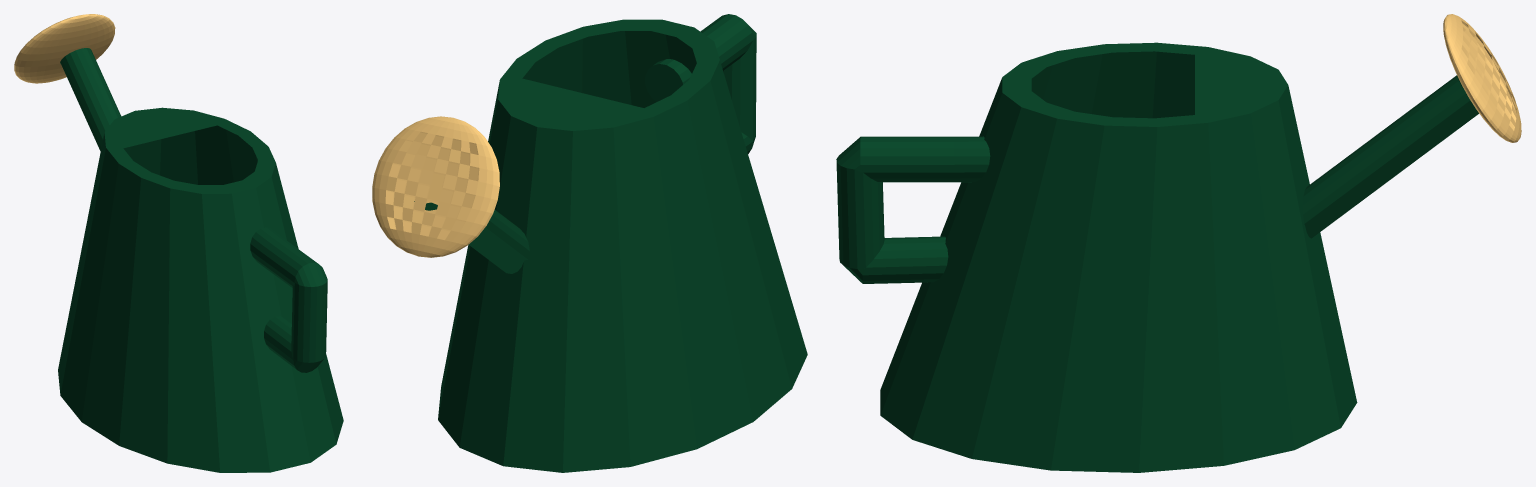
File: gieter.fbx
3 renders of one model, left to right at view 1: azimuth 30°, elevation 25°; view 2: azimuth 150°, elevation 25°; view 3: azimuth 270°, elevation 25°, orthographic. The views are drawn at different scales.
Visible parts, largest first — view 1: Cylinder, Cylinder.002, Sphere, Cylinder.001; view 2: Cylinder, Sphere, Cylinder.002, Cylinder.001; view 3: Cylinder, Cylinder.002, Cylinder.001, Sphere.
Boxes of the visible parts, <box> form: Cylinder: <box>58,107,343,472</box>; Cylinder.002: <box>250,227,327,372</box>; Sphere: <box>14,14,115,83</box>; Cylinder.001: <box>60,48,121,150</box>; Cylinder: <box>438,19,807,472</box>; Sphere: <box>372,116,499,257</box>; Cylinder.002: <box>645,14,756,153</box>; Cylinder.001: <box>414,201,529,273</box>; Cylinder: <box>880,42,1357,472</box>; Cylinder.002: <box>836,136,990,283</box>; Cylinder.001: <box>1302,75,1478,238</box>; Sphere: <box>1443,14,1521,142</box>.
Bounding box in the file's own units: 199 × 253 × 410.
